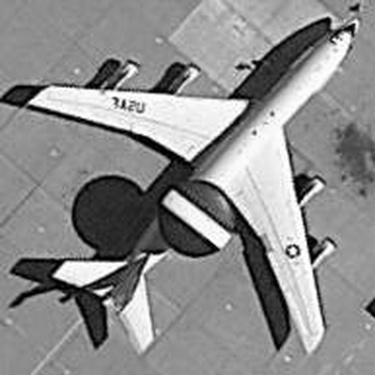airplane: (21, 17, 362, 356)
